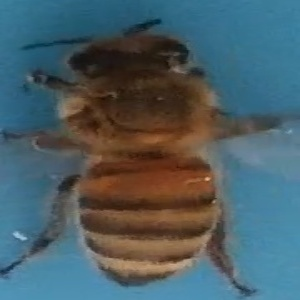bee: (12, 19, 293, 297)
